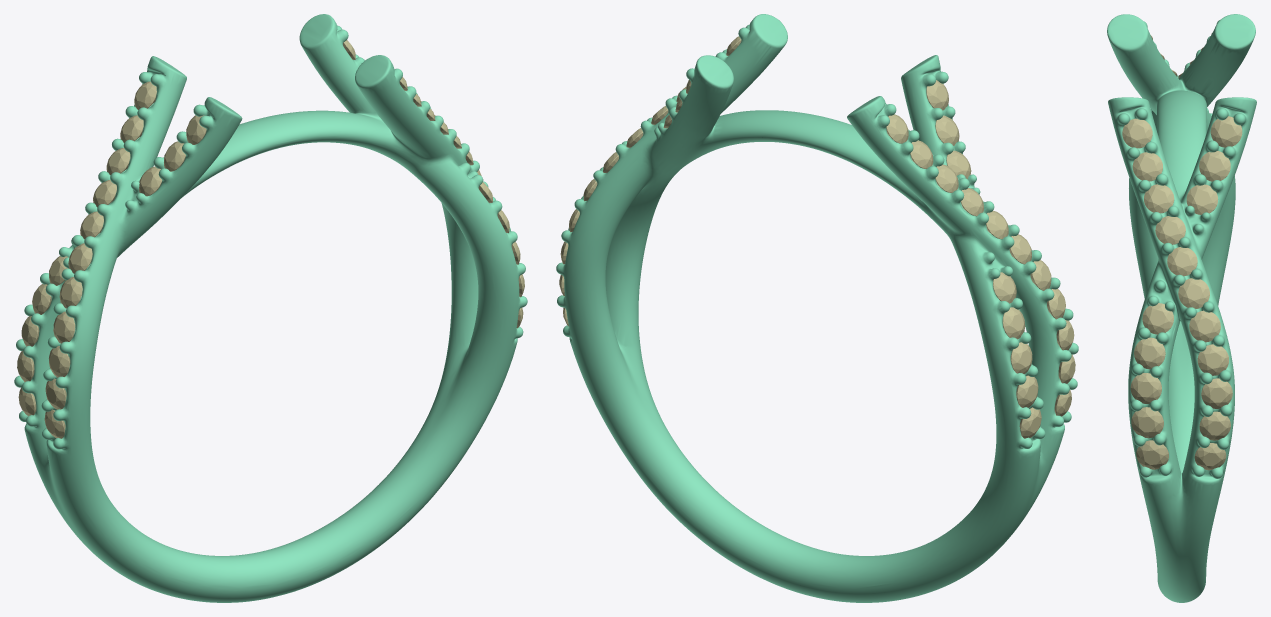
3 views of the same model, side by side, from view 1: azimuth 30°, elevation 25°; view 2: azimuth 150°, elevation 25°; view 3: azimuth 270°, elevation 25° (orthographic). The views are drawn at different scales.
Visible parts, largest first — view 1: Metal02; view 2: Metal02; view 3: Metal02, Diamond_Gem.033, Diamond_Gem.021, Diamond_Gem.031, Diamond_Gem.024, Diamond_Gem.035, Diamond_Gem.022, Diamond_Gem.032, Diamond_Gem.030, Diamond_Gem.036, Diamond_Gem.037, Diamond_Gem.023 (+8 smaller).
Part boxes in pixels (x1,y1,x2,y2): Metal02: (14, 14, 527, 602); Metal02: (556, 14, 1078, 602); Metal02: (1107, 14, 1256, 602); Diamond_Gem.033: (1131, 407, 1163, 438); Diamond_Gem.021: (1189, 310, 1220, 342); Diamond_Gem.031: (1134, 337, 1165, 369); Diamond_Gem.024: (1178, 278, 1209, 308); Diamond_Gem.035: (1199, 151, 1230, 181); Diamond_Gem.022: (1197, 344, 1228, 375); Diamond_Gem.032: (1130, 373, 1161, 403); Diamond_Gem.030: (1142, 303, 1173, 334); Diamond_Gem.036: (1210, 116, 1242, 147); Diamond_Gem.037: (1186, 184, 1217, 214); Diamond_Gem.023: (1201, 378, 1232, 408).
Bounding box in the file's own units: 21.33 × 22.78 × 5.92.
